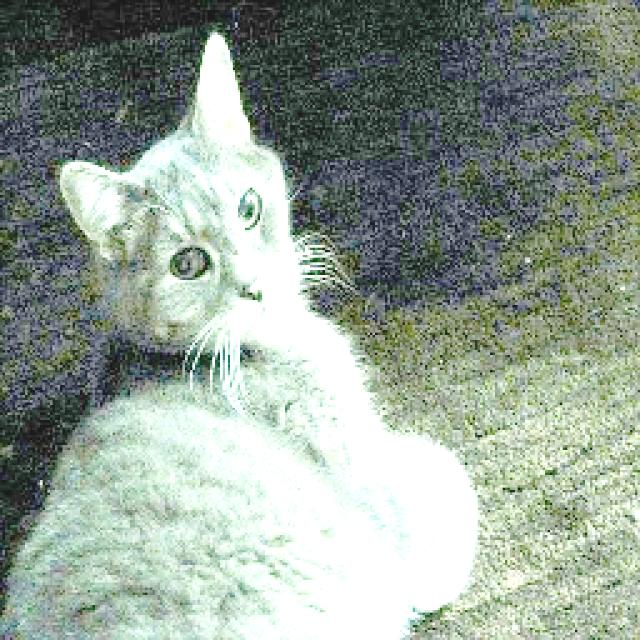cat: (7, 0, 485, 640)
